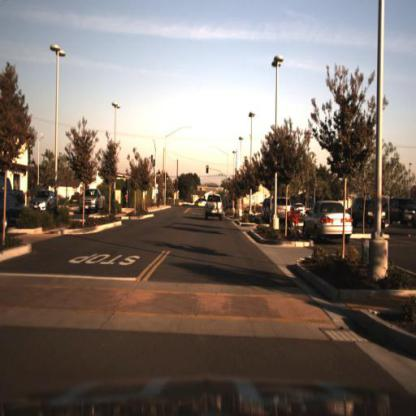car: (306, 199, 351, 241), (350, 195, 390, 228), (28, 188, 58, 222), (388, 196, 416, 228), (203, 188, 226, 222), (80, 189, 110, 215), (271, 193, 292, 224), (294, 202, 310, 218)
trafficLight-Red: (205, 163, 211, 175), (173, 179, 178, 189)
